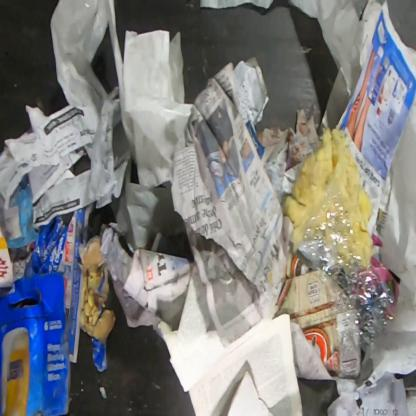cardboard: (272, 249, 362, 380), (0, 271, 72, 415), (77, 234, 117, 373)
soft_plastic: (298, 184, 398, 361), (50, 0, 119, 114)
